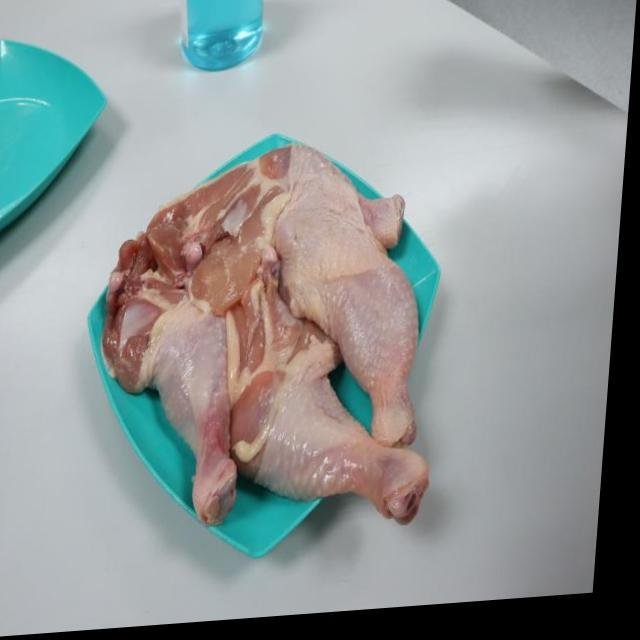quater: (210, 278, 442, 544), (264, 177, 438, 465), (104, 254, 256, 526), (132, 138, 418, 273)
